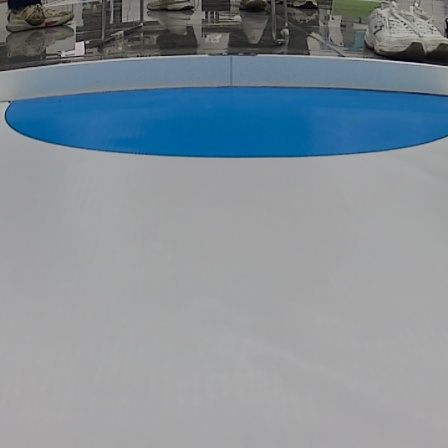blue_base: (5, 84, 448, 160)
